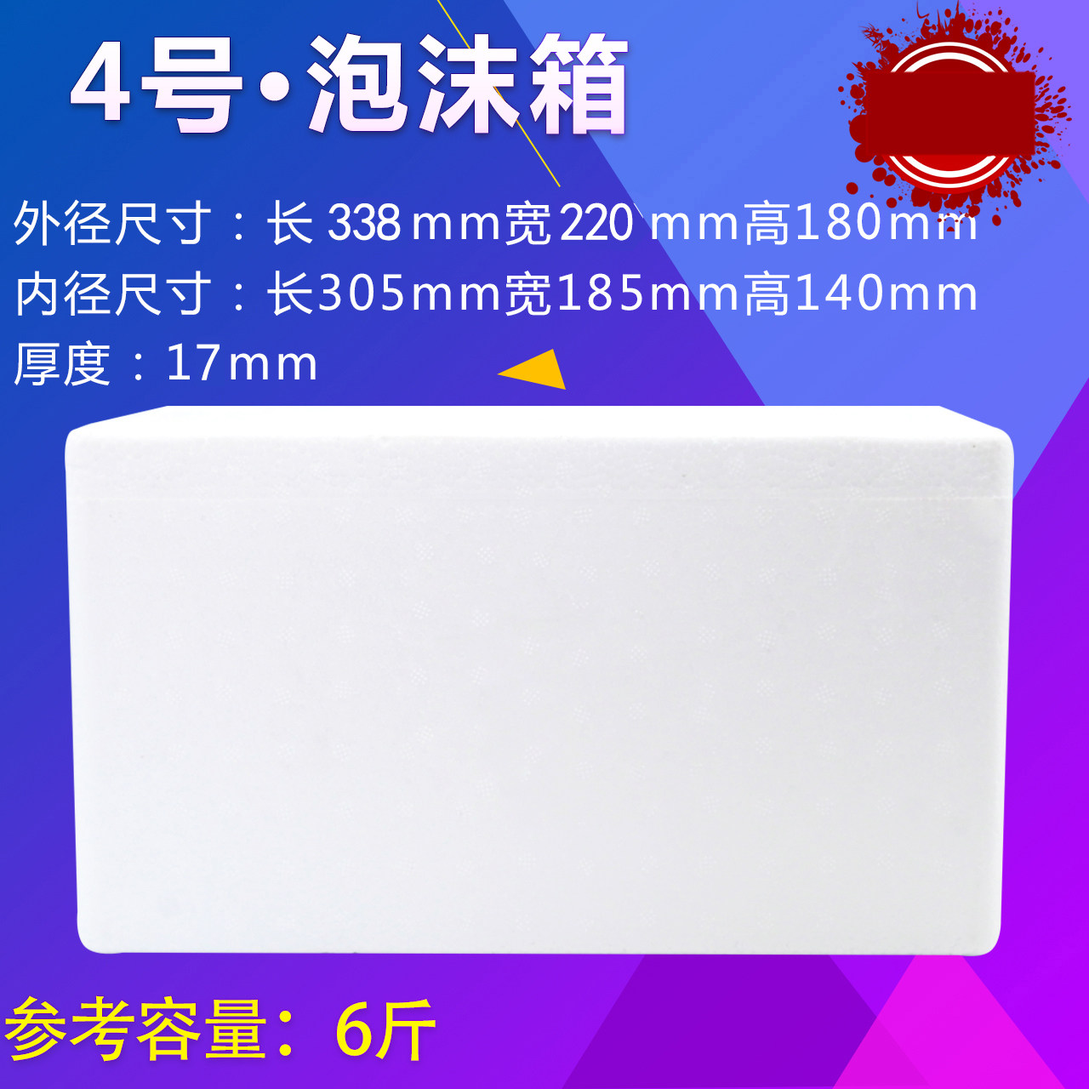泡沫箱: (66, 408, 1012, 953)
